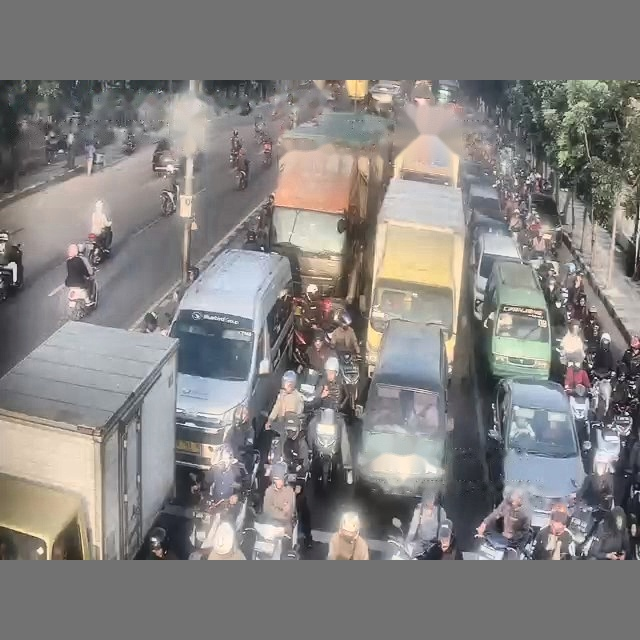Mobil: (487, 377, 585, 528), (470, 232, 521, 320), (469, 214, 511, 244), (152, 138, 185, 175), (370, 81, 401, 110)
Motor: (309, 408, 343, 491), (386, 518, 452, 559), (463, 531, 529, 559), (251, 516, 286, 559), (338, 352, 360, 416), (68, 282, 97, 320), (85, 233, 109, 266), (161, 189, 178, 216), (235, 169, 247, 190), (262, 142, 272, 167)
Truk: (0, 322, 177, 559), (268, 117, 388, 303), (361, 179, 465, 376)
